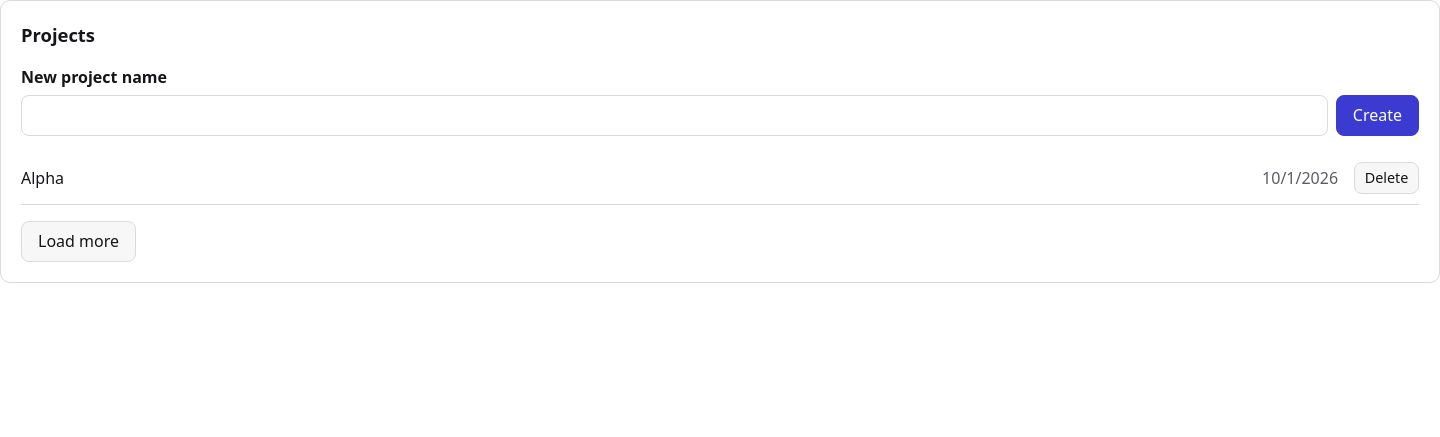
Scenario: projects panel errors (FE-10) › reports a failed delete without blaming the name field
Expected: the text "Alpha" is shown, [21, 166, 64, 188]
Click the button named "Delete Alpha" at (1386, 178), box [1354, 162, 1419, 194]
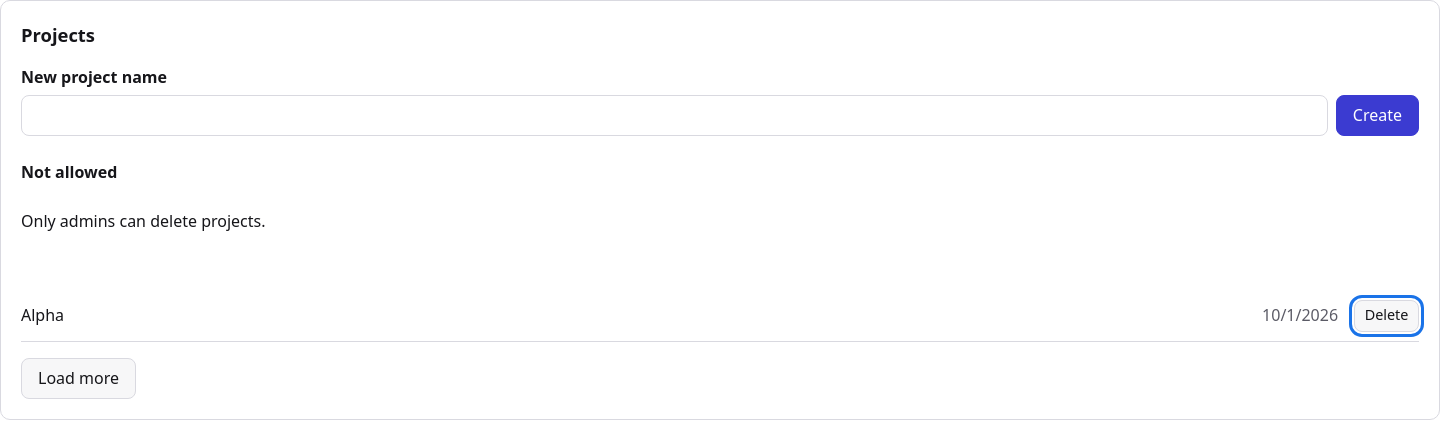
Expected: the text "Alpha" is shown, [21, 304, 64, 326]
Now the message shows "Not allowed", box [21, 161, 117, 183]
